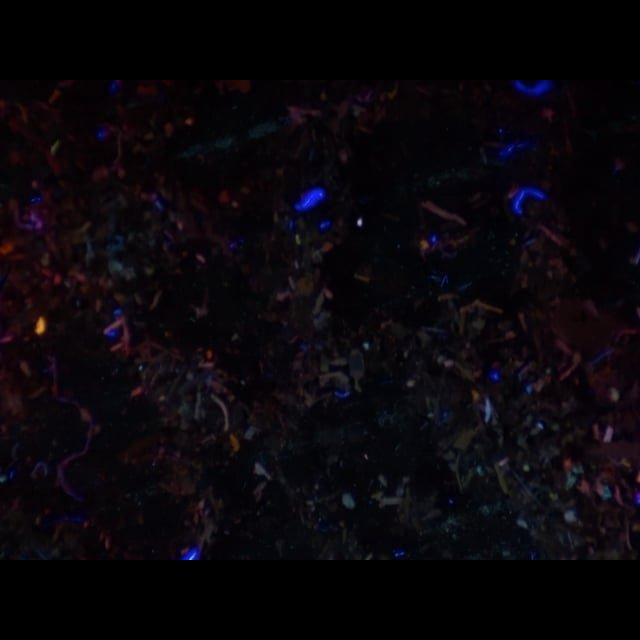Fibre: (338, 492, 356, 510)
